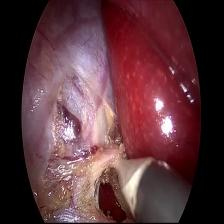Hook: (109, 144, 165, 204)
